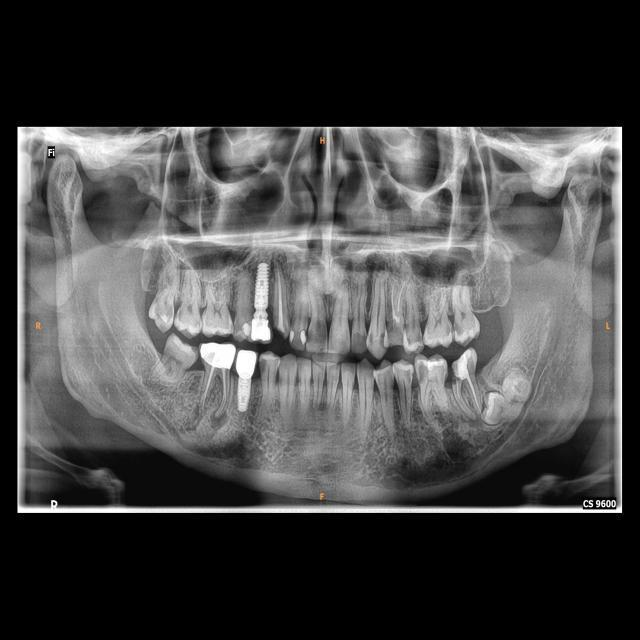dentin-curugu: (388, 324, 403, 346), (315, 317, 327, 343), (354, 331, 367, 351), (417, 364, 428, 383), (453, 322, 463, 337), (467, 361, 476, 377), (260, 358, 268, 374), (379, 332, 386, 347), (451, 373, 459, 385)
dolgu: (455, 352, 469, 378), (239, 320, 251, 337), (296, 328, 306, 342), (288, 329, 294, 343)
implant: (230, 346, 256, 410), (250, 261, 270, 344)
kanal-tedavisi: (203, 369, 230, 415), (389, 282, 405, 321), (276, 271, 284, 331), (468, 380, 480, 410)
kaplama: (200, 338, 237, 371)
